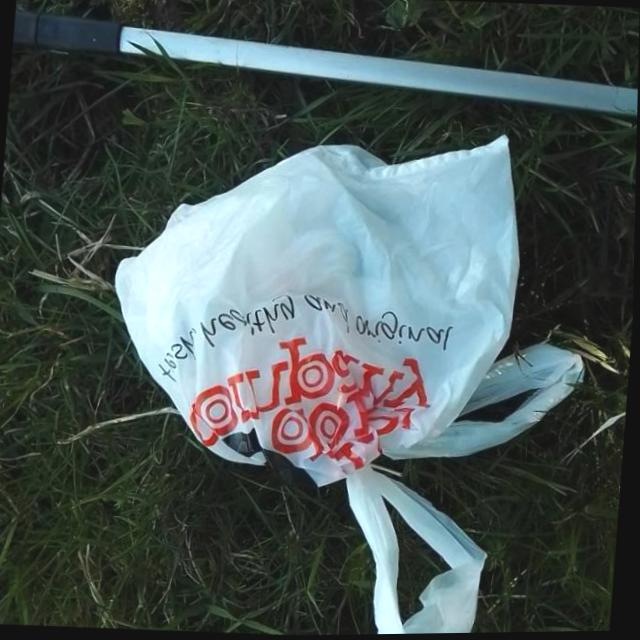Paper: (90, 115, 605, 639)
